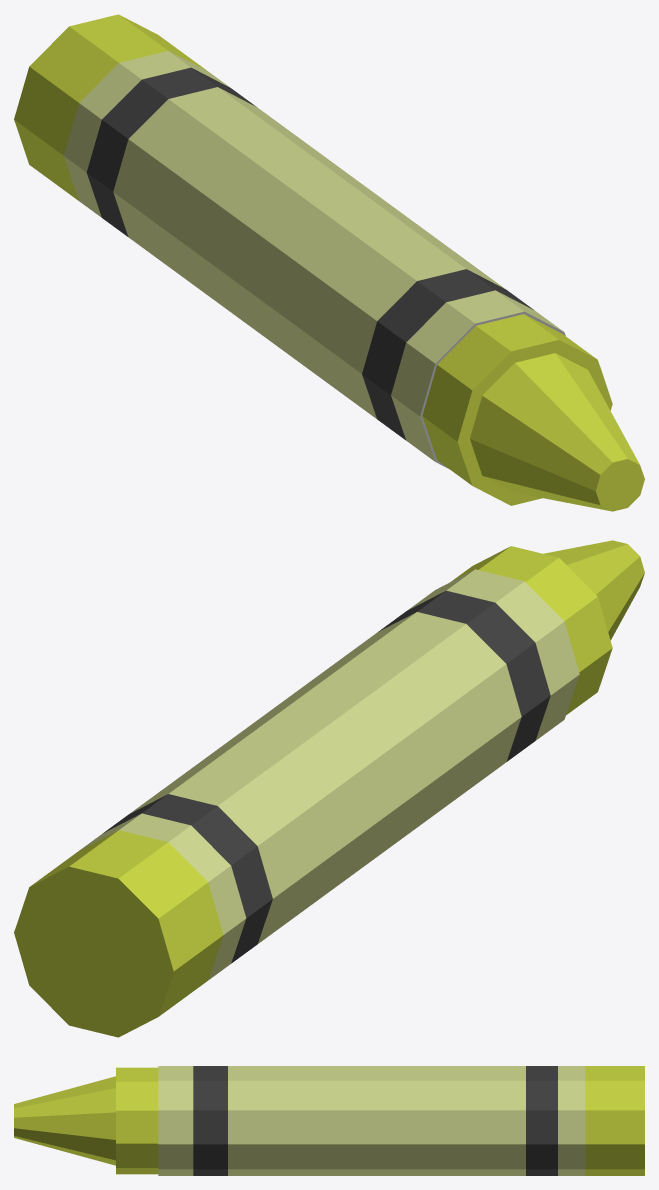
The model's file is Crayon_01.fbx.
3 views of the same model, one above another, from view 1: azimuth 30°, elevation 25°; view 2: azimuth 150°, elevation 25°; view 3: azimuth 270°, elevation 25° (orthographic). The views are drawn at different scales.
Parts seen in each view (by area): view 1: Crayon_01; view 2: Crayon_01; view 3: Crayon_01.
Boxes of the visible parts, x1,y1,x2,y2 form: Crayon_01: (14, 14, 644, 511); Crayon_01: (14, 540, 644, 1037); Crayon_01: (14, 1066, 644, 1175).
Bounding box in the file's own units: 0.5563 × 0.5291 × 3.18.
